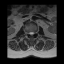CCS_normal: (30, 30, 32, 37)
LFS_stenosis: (34, 30, 35, 35)
LLS_normal: (32, 30, 34, 36)
RFS_normal: (27, 30, 28, 36)
RLS_normal: (28, 30, 30, 35)
